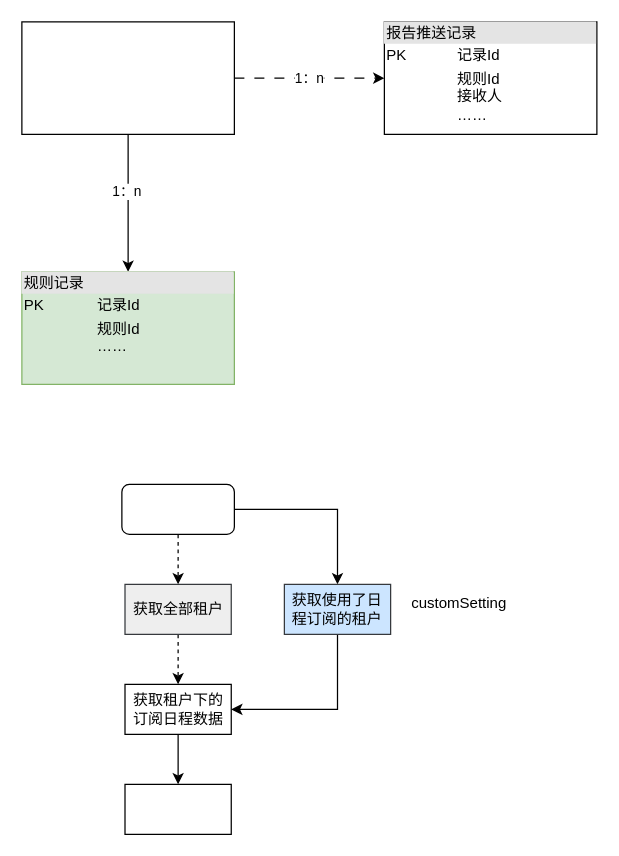
Some shapes in this 619 by 856 pixel diagram are drawn without their labels. Here are the shapes that lost their labels. From the top down, the box of each, then its label:
(21, 21, 234, 134): 报告规则 PK 规则Id 规则名称 ……
(121, 483, 234, 534): 日程订阅逻辑
(124, 783, 231, 834): 同步至 日程数据
